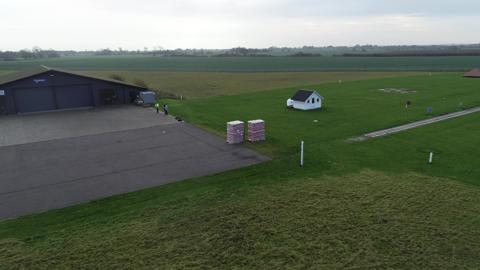RockwoolPallet: (248, 119, 265, 143)
